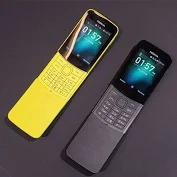nokia: (39, 9, 119, 92)
